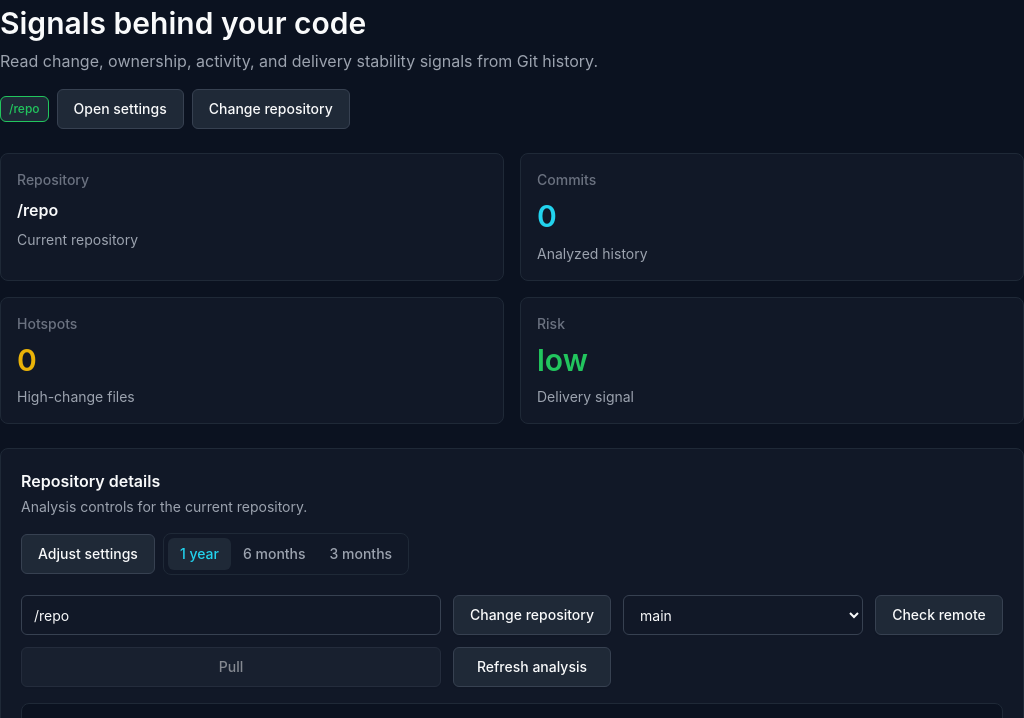
OverviewPage branch controls › shows analysis basis and can pull after a behind remote check
Click the button "Check remote": (939, 615) [875, 595, 1003, 635]
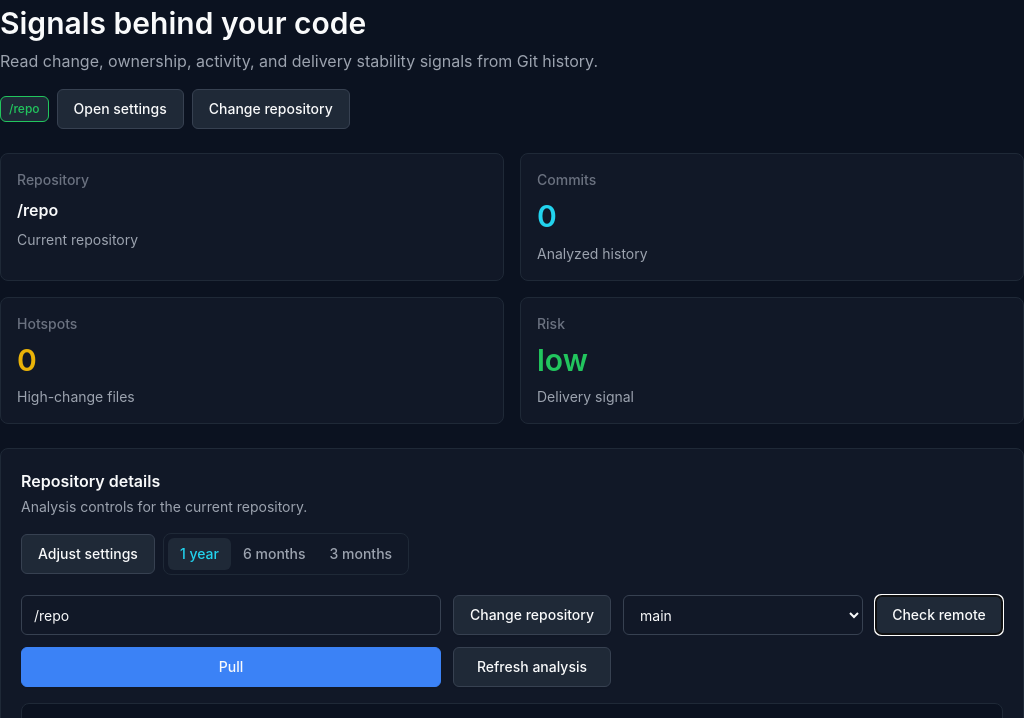
Click the button "Pull": (231, 667) [21, 647, 441, 687]
(page scrolled)
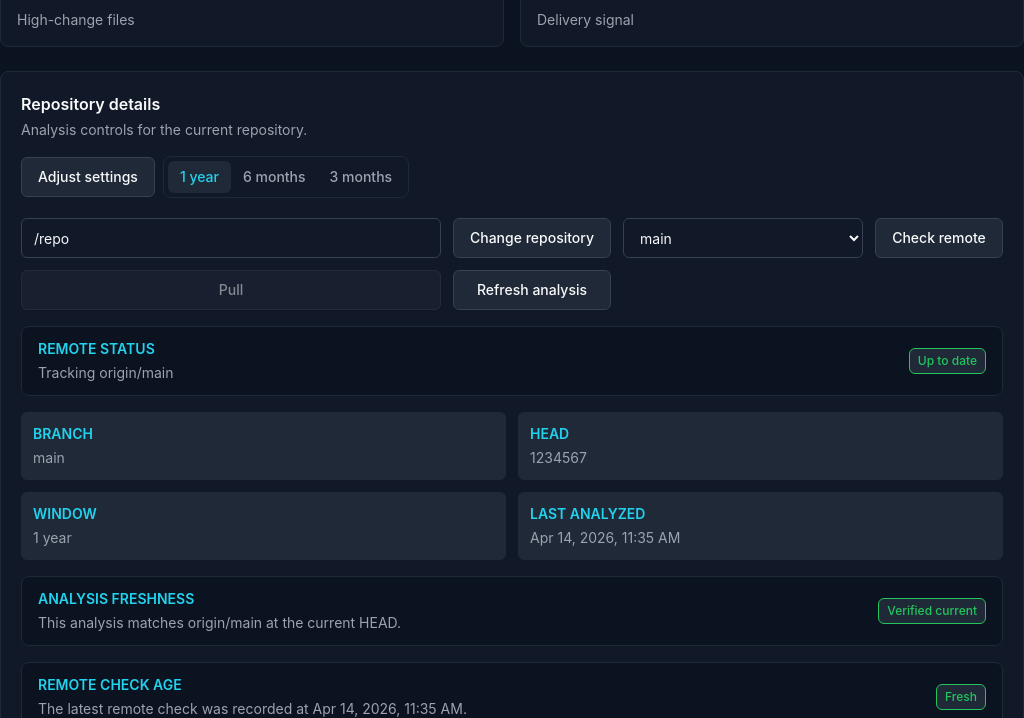
Expected: the text "Up to date" is shown, [909, 348, 986, 374]
